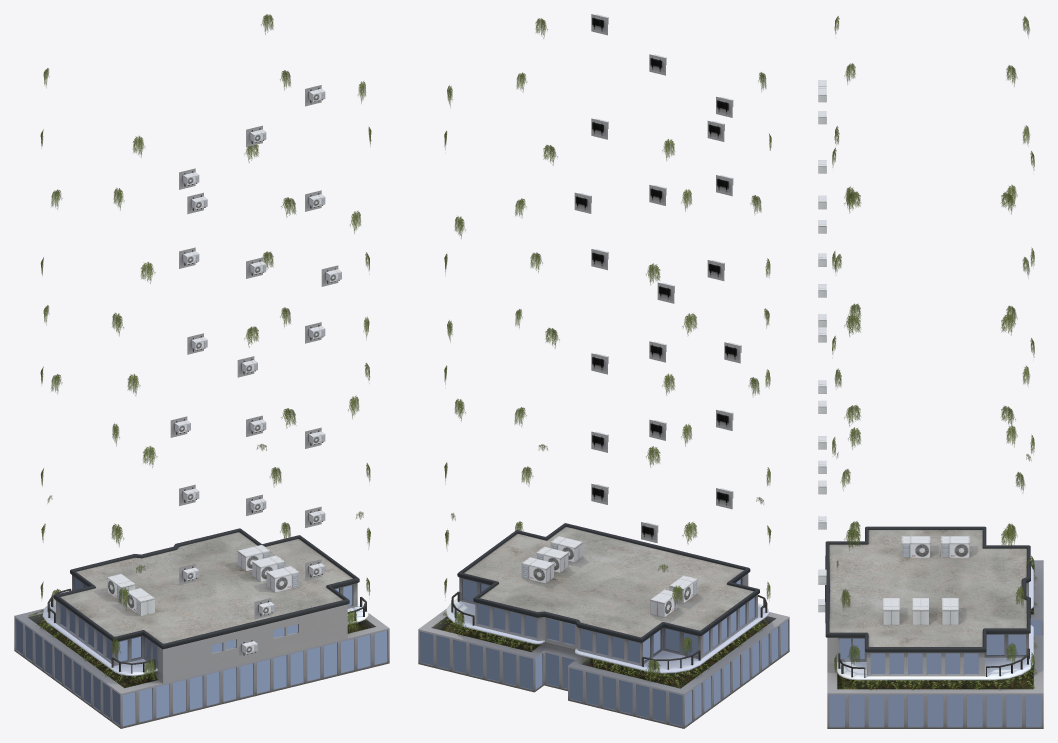
Rendered from building.glb.
The picture shows the model from 3 angles, left to right: view 1: azimuth 30°, elevation 25°; view 2: azimuth 150°, elevation 25°; view 3: azimuth 270°, elevation 25°; orthographic projection. The views are drawn at different scales.
Parts seen in each view (by area): view 1: Roof, GroundFloor, Floor, AC, Plants; view 2: Roof, GroundFloor, Floor, AC, Plants; view 3: Roof, GroundFloor, Floor, Plants, AC.
Boxes of the visible parts, x1=… form: Roof: x1=54, y1=528, x2=359, y2=649; GroundFloor: x1=14, y1=608, x2=389, y2=728; Floor: x1=42, y1=575, x2=368, y2=676; AC: x1=170, y1=85, x2=341, y2=658; Plants: x1=40, y1=14, x2=371, y2=681; Roof: x1=457, y1=523, x2=759, y2=642; GroundFloor: x1=418, y1=608, x2=789, y2=728; Floor: x1=446, y1=573, x2=768, y2=673; AC: x1=574, y1=14, x2=741, y2=543; Plants: x1=444, y1=18, x2=771, y2=679; Roof: x1=825, y1=526, x2=1030, y2=652; GroundFloor: x1=827, y1=560, x2=1043, y2=728; Floor: x1=827, y1=566, x2=1033, y2=680; Plants: x1=832, y1=16, x2=1034, y2=672; AC: x1=818, y1=80, x2=826, y2=612.
Size of the model in its own units: 32 by 67.75 by 22.92.
9 materials, 7 textured.
